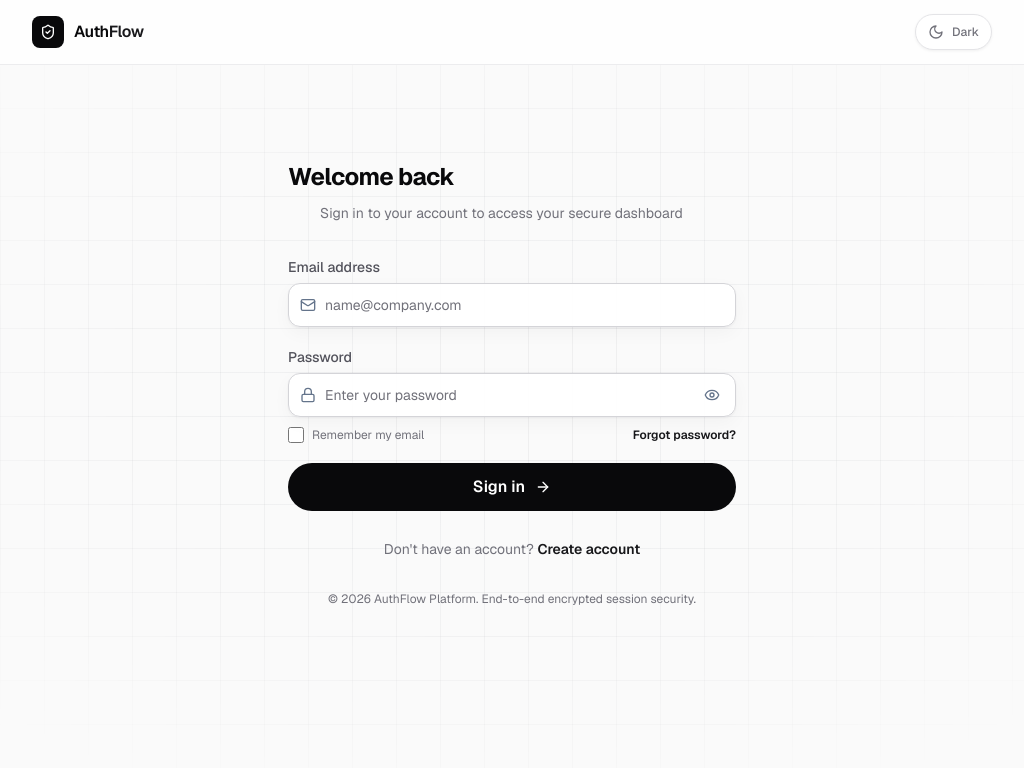
Auth Flow and Protected Routes › Failed Login Handling › displays error message returned by backend and prevents navigation
Type "test@example.com" into the field labelled "Email address".
click(512, 305); type("test@example.com")  # box top-left (288, 283), bottom-right (736, 327)
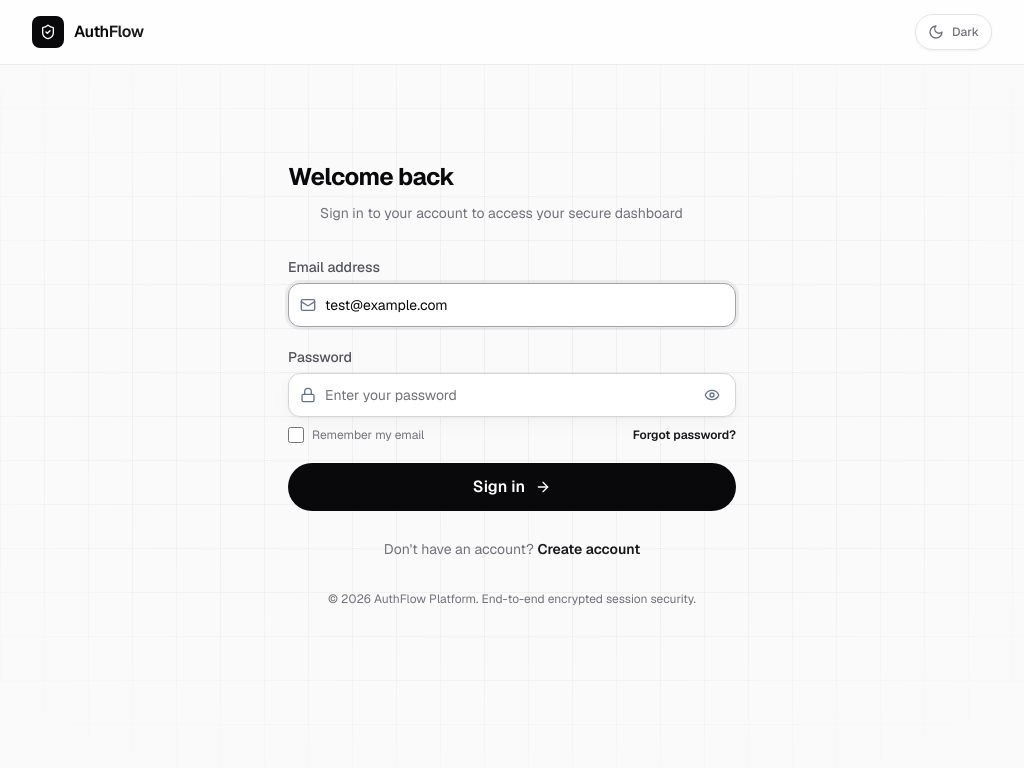
Type "WrongPassword123!" into the password field with placeholder "Enter your password".
click(512, 395); type("WrongPassword123!")  # box top-left (288, 373), bottom-right (736, 417)
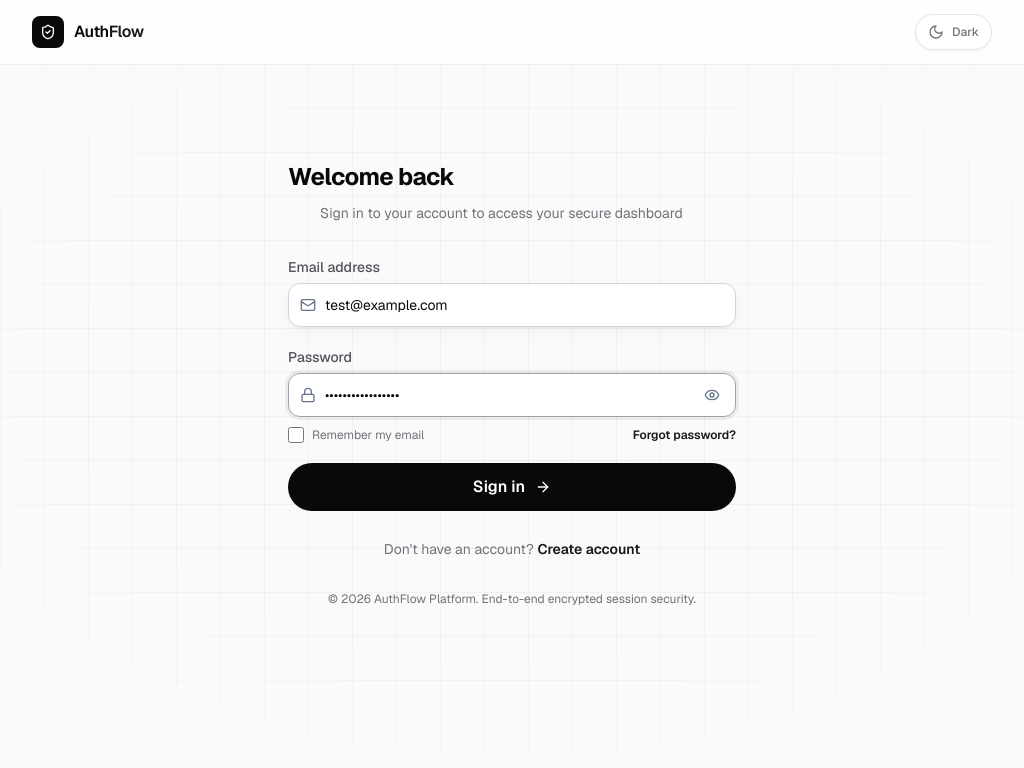
Click the button "Sign in".
click(512, 487)  # box top-left (288, 463), bottom-right (736, 511)
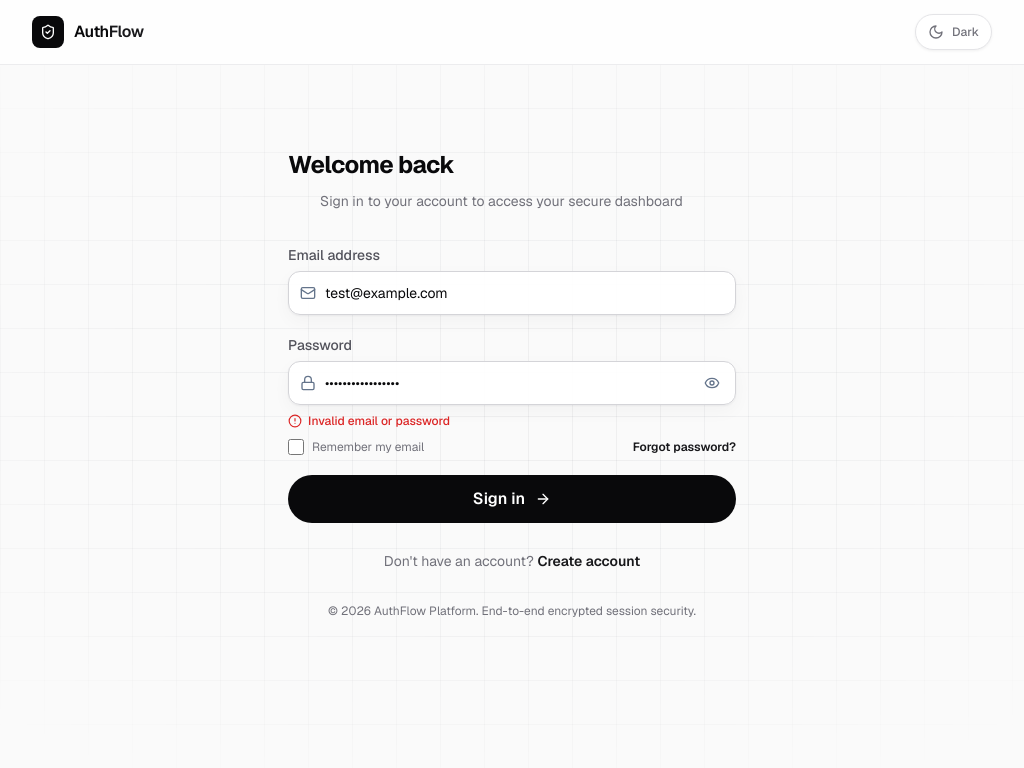
Now the message reads "Invalid email or password", box top-left (308, 413), bottom-right (450, 429)
